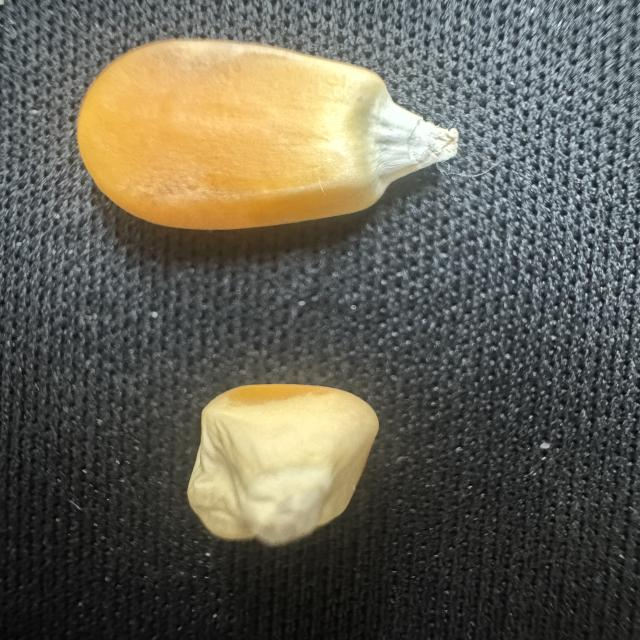Bad-Seed: (178, 374, 384, 546)
Good-Seed: (68, 37, 474, 236)
